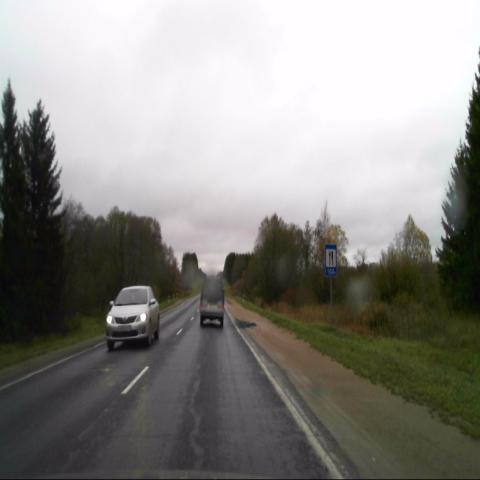7_7: (324, 242, 337, 277)
